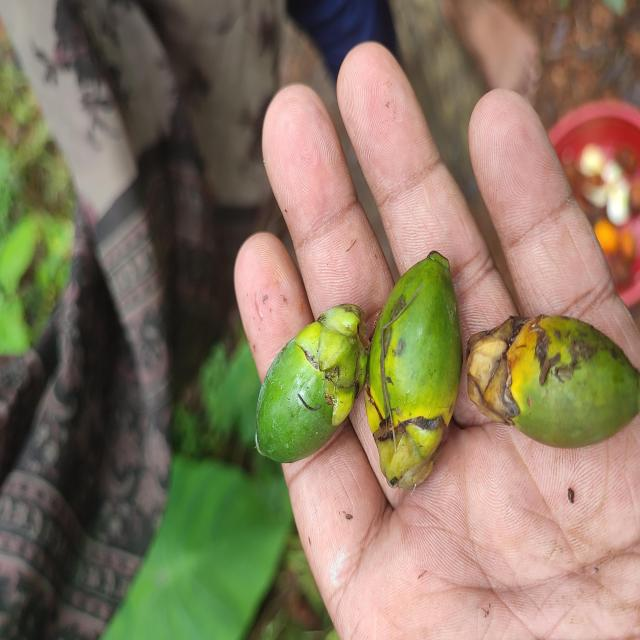damaged: (364, 253, 464, 493), (467, 316, 640, 451), (256, 307, 363, 466)
